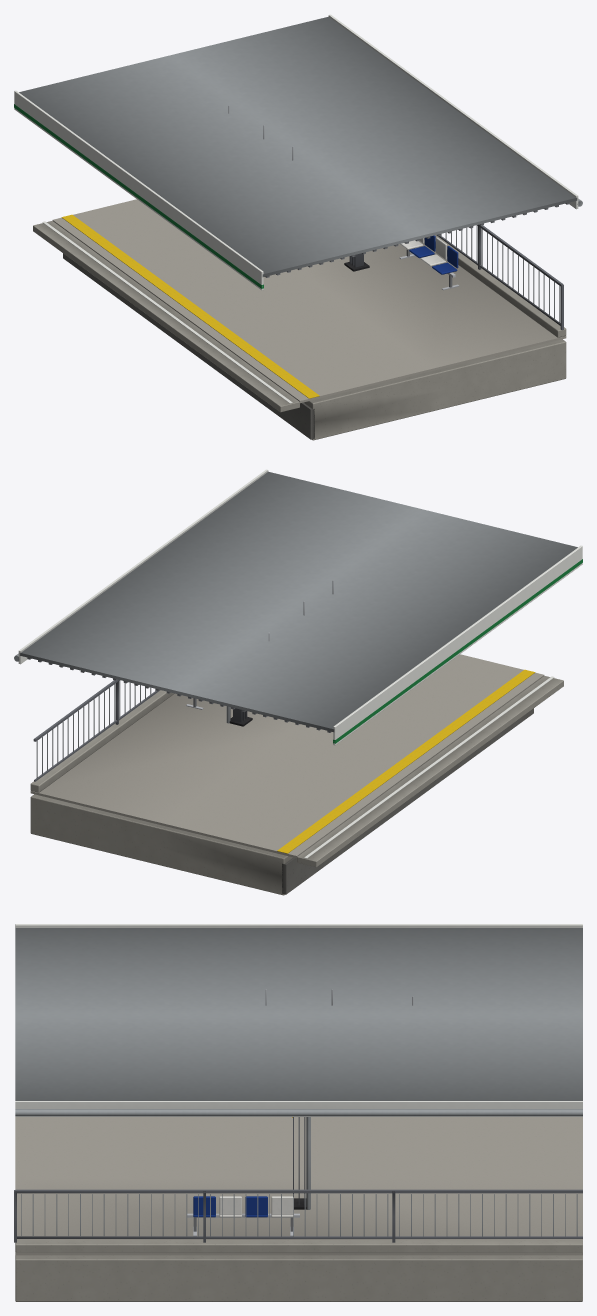
File: station_bay_bench.glb
3 renders of one model, top to bottom at view 1: azimuth 30°, elevation 25°; view 2: azimuth 150°, elevation 25°; view 3: azimuth 270°, elevation 25°, orthographic. The views are drawn at different scales.
Parts seen in each view (by area): view 1: station_bay_bench_galvanised, surface, station_bay_bench_concrete, station_bay_bench_paint_white, tactile, refuge_wall, station_bay_bench_paint_grey, fascia_band, station_bay_bench_paint_blue, station_bay_bench_plastic_white; view 2: station_bay_bench_galvanised, surface, station_bay_bench_concrete, station_bay_bench_paint_white, tactile, refuge_wall, station_bay_bench_paint_grey, fascia_band; view 3: station_bay_bench_galvanised, surface, station_bay_bench_concrete, station_bay_bench_paint_white, station_bay_bench_paint_grey, station_bay_bench_plastic_white, station_bay_bench_paint_blue.
Part boxes in pixels (x1,y1,x2,y2): station_bay_bench_galvanised: (19, 16, 582, 323); surface: (52, 199, 566, 403); station_bay_bench_concrete: (33, 221, 566, 440); station_bay_bench_paint_white: (14, 14, 578, 403); tactile: (61, 214, 319, 398); refuge_wall: (63, 253, 314, 439); station_bay_bench_paint_grey: (349, 224, 563, 330); fascia_band: (14, 104, 263, 288); station_bay_bench_paint_blue: (409, 235, 458, 274); station_bay_bench_plastic_white: (400, 237, 446, 266); station_bay_bench_galvanised: (14, 471, 577, 778); surface: (30, 654, 544, 858); station_bay_bench_concrete: (30, 676, 563, 895); station_bay_bench_paint_white: (18, 469, 582, 858); tactile: (277, 669, 535, 853); refuge_wall: (282, 708, 533, 894); station_bay_bench_paint_grey: (33, 679, 247, 781); fascia_band: (333, 559, 582, 743); station_bay_bench_galvanised: (15, 928, 582, 1236); surface: (15, 1117, 582, 1255); station_bay_bench_concrete: (15, 1240, 582, 1301); station_bay_bench_paint_white: (15, 924, 582, 1116); station_bay_bench_paint_grey: (14, 1117, 582, 1242); station_bay_bench_plastic_white: (219, 1196, 293, 1217); station_bay_bench_paint_blue: (193, 1196, 267, 1217).
Size of what is drawn, in the model's own units: 8.99 by 5.15 by 12.03.
Materials: 20 (17 with a texture image).
